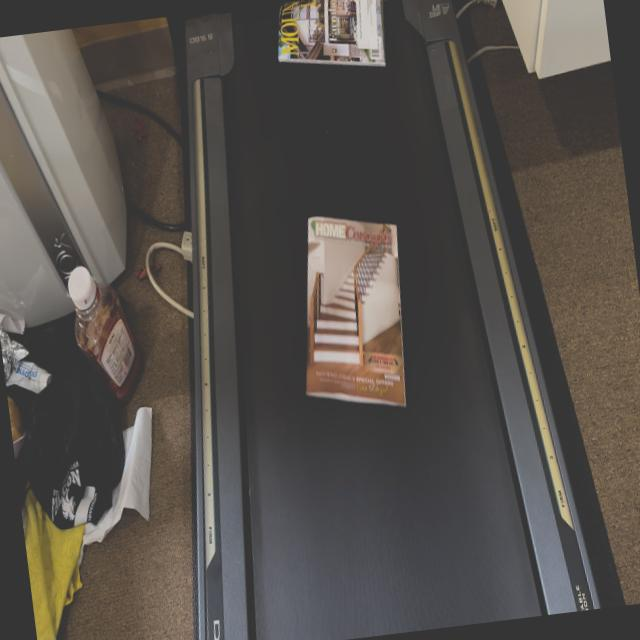Recycle: (280, 200, 420, 418), (269, 0, 390, 87)
